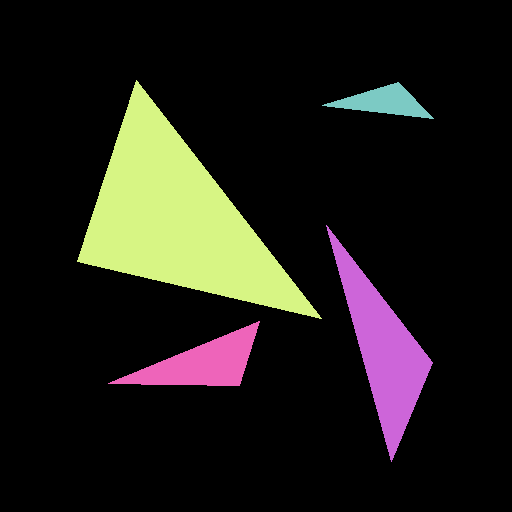triangle: (77, 80, 321, 318), (326, 225, 432, 461), (108, 321, 259, 385), (322, 82, 433, 118)
